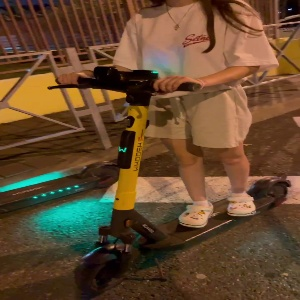human on a scooter: (46, 1, 292, 294)
